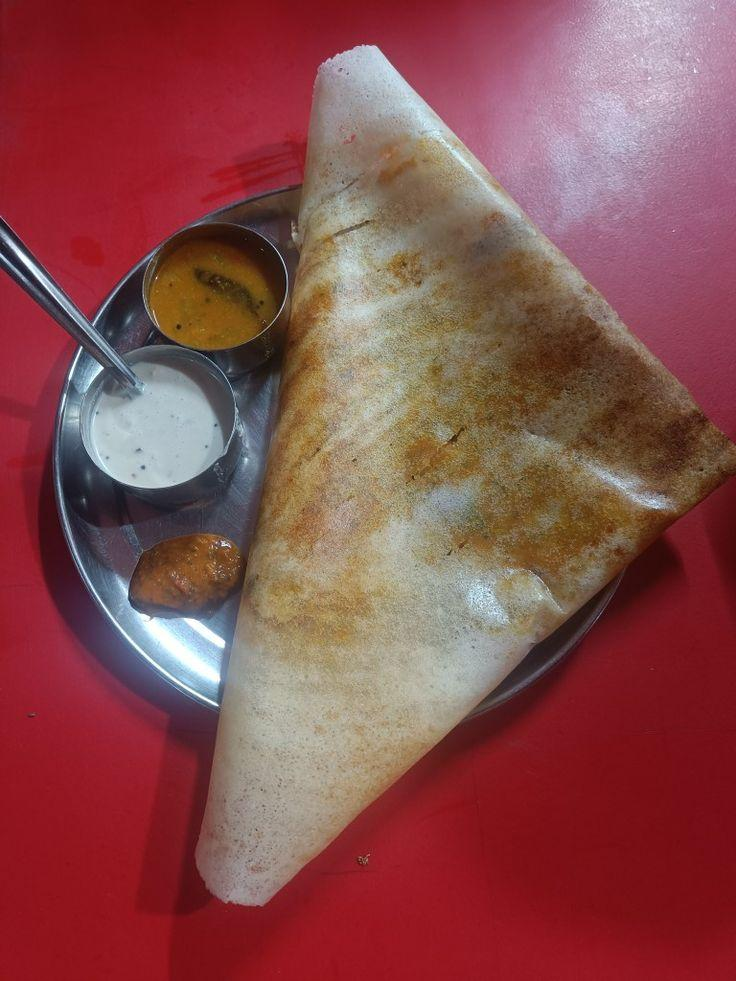dosa: (210, 50, 733, 927)
